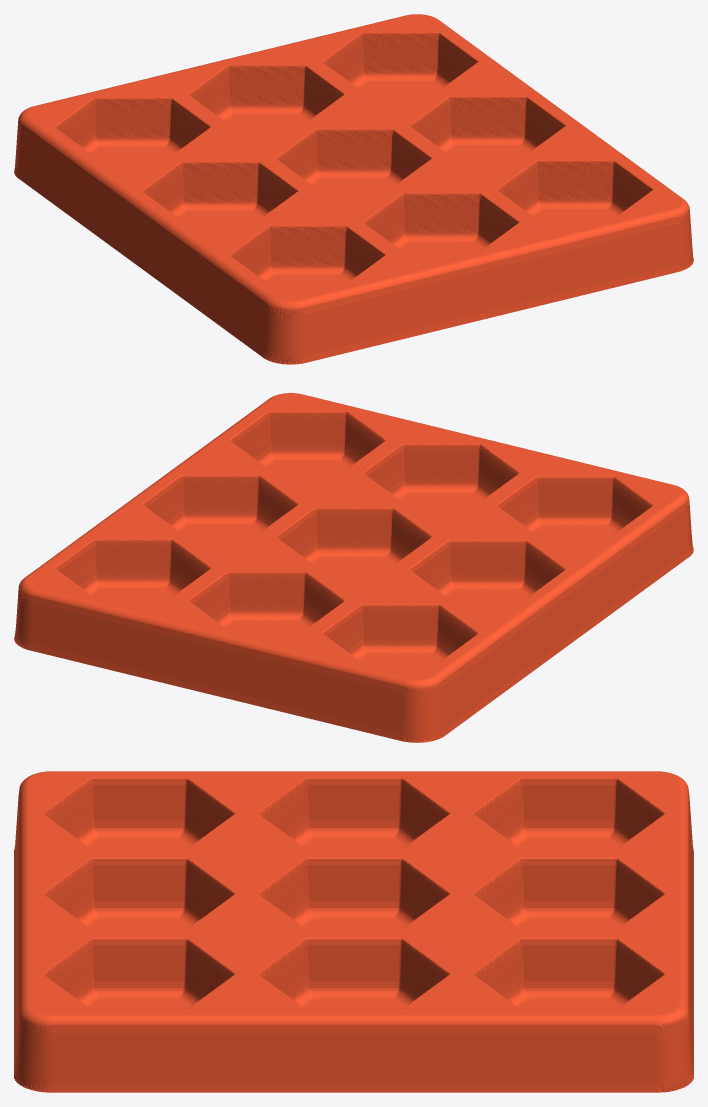
File: mold.glb
3 views of the same model, one above another, from view 1: azimuth 30°, elevation 25°; view 2: azimuth 150°, elevation 25°; view 3: azimuth 270°, elevation 25° (orthographic). The views are drawn at different scales.
Visible parts, largest first — view 1: geometry_0; view 2: geometry_0; view 3: geometry_0.
Boxes of the visible parts, x1,y1,x2,y2 form: geometry_0: [14, 14, 693, 364]; geometry_0: [14, 393, 693, 742]; geometry_0: [14, 771, 693, 1092].
Bounding box in the file's own units: 0.1419 × 0.0185 × 0.1595.
